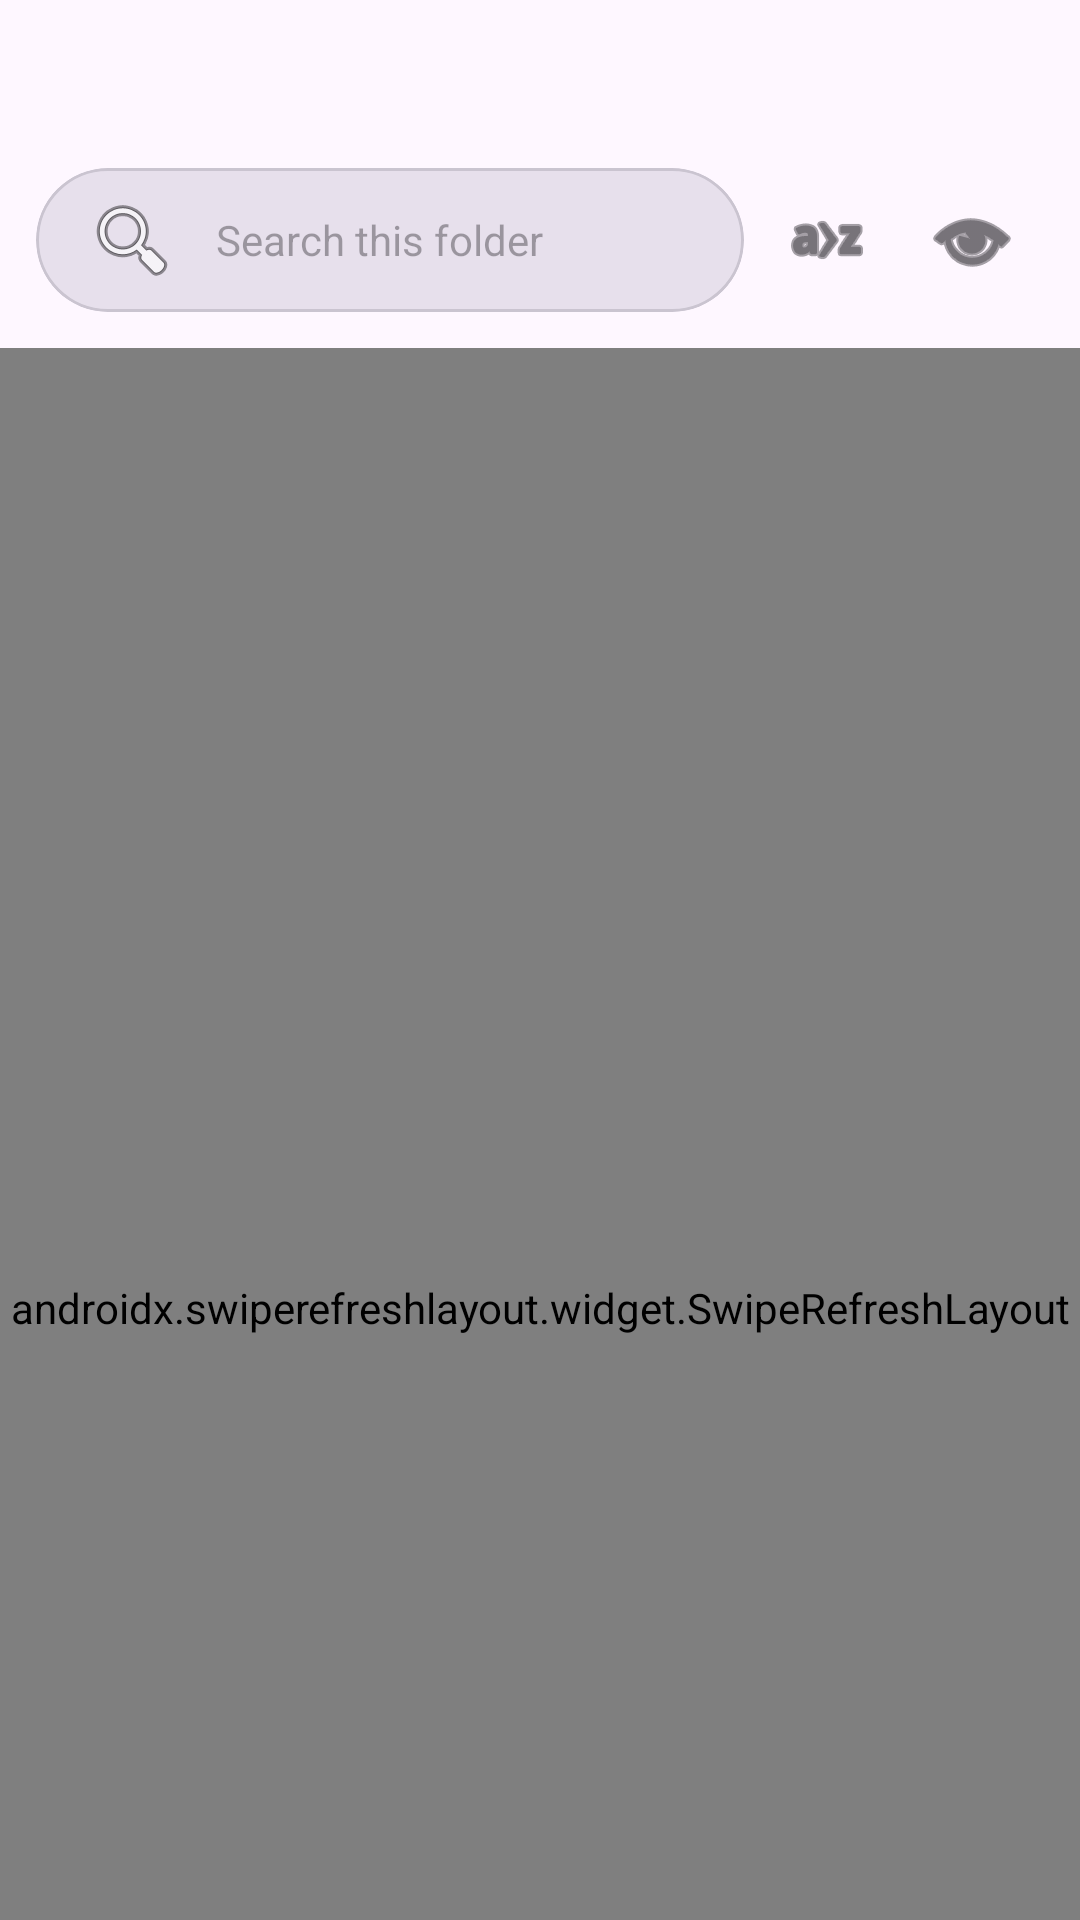

Icons on this 1080px x 1920px Android screen, each with its box as (left=x1, top=y1, right=x2, bottom=y2):
sort alphabetically: (left=791, top=221, right=863, bottom=259)
view: (left=933, top=218, right=1011, bottom=267)
